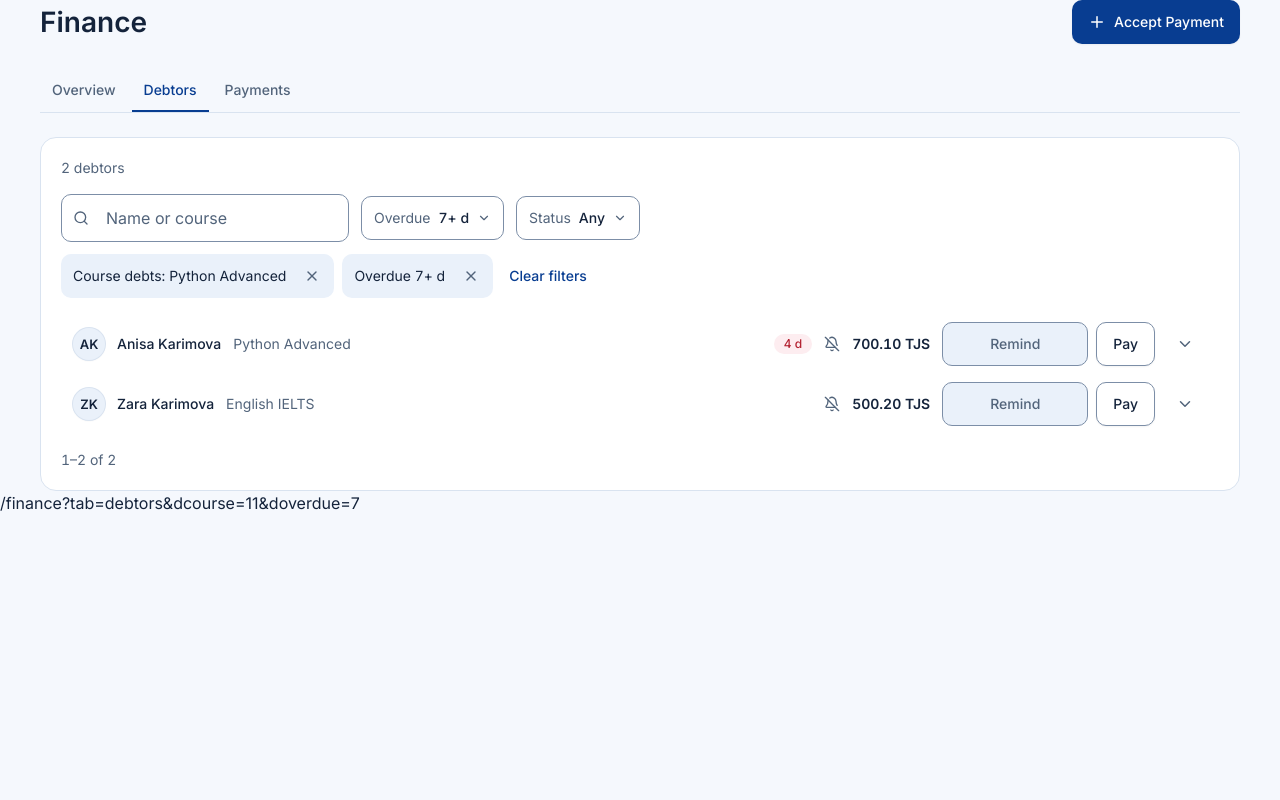
Test case: Debtors filters › applies the status filter, removes chips and clears everything
The width and height of the screenshot is (1280, 800).
Check: the text "Course debts: Python Advanced" is shown, box [73, 266, 286, 286]
Click the button "Status Any" at (578, 218), box [516, 196, 640, 240]
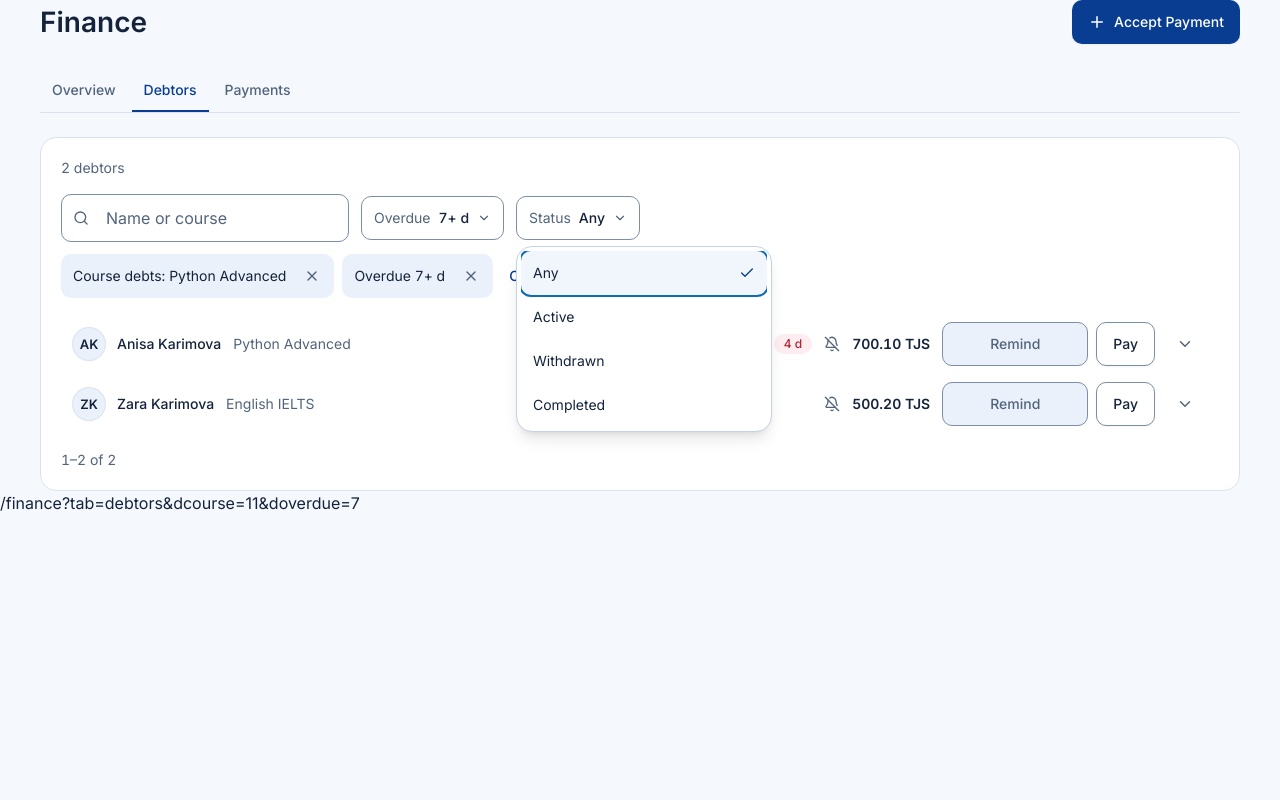
Click the option "Active" at (644, 317), box [521, 295, 767, 339]
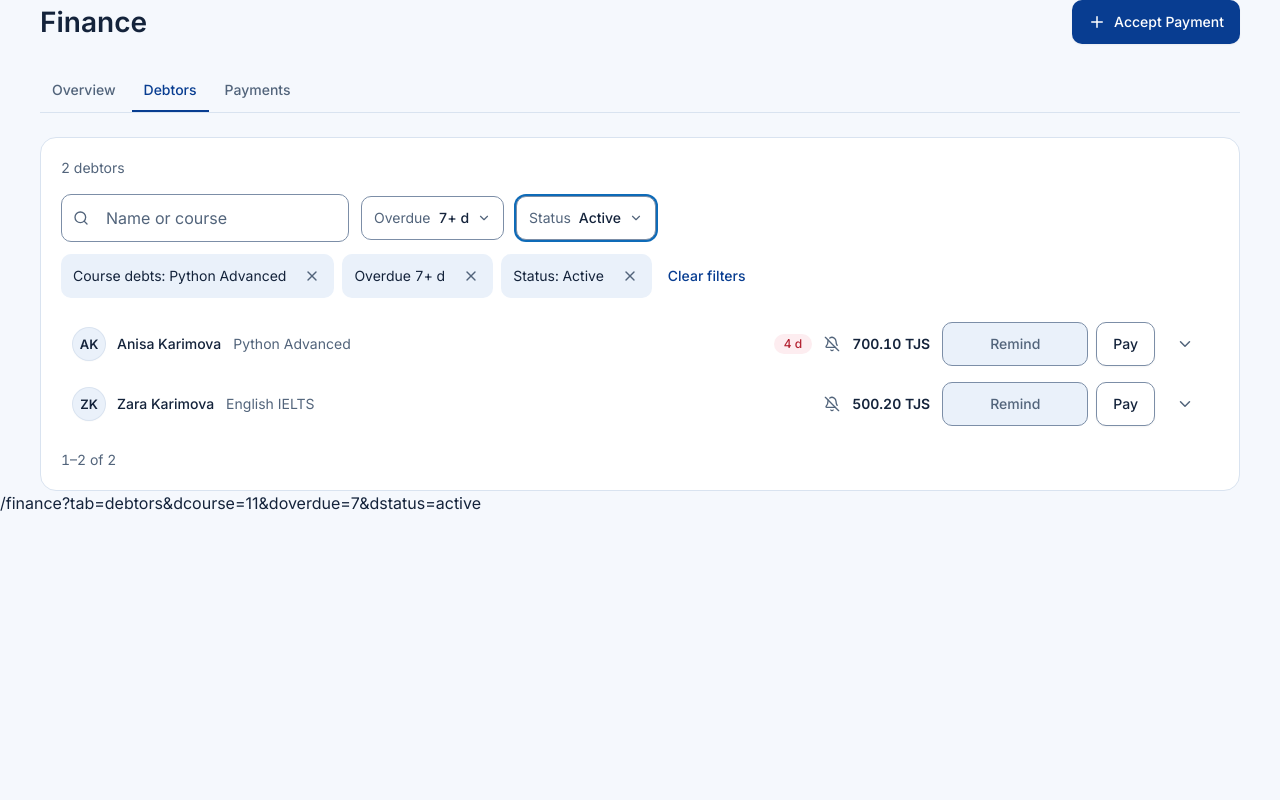
Check: the text "Status: Active" is shown, box [513, 266, 604, 286]
Click the button named "Remove filter: Overdue 7+ d" at (471, 276), box [449, 254, 493, 298]
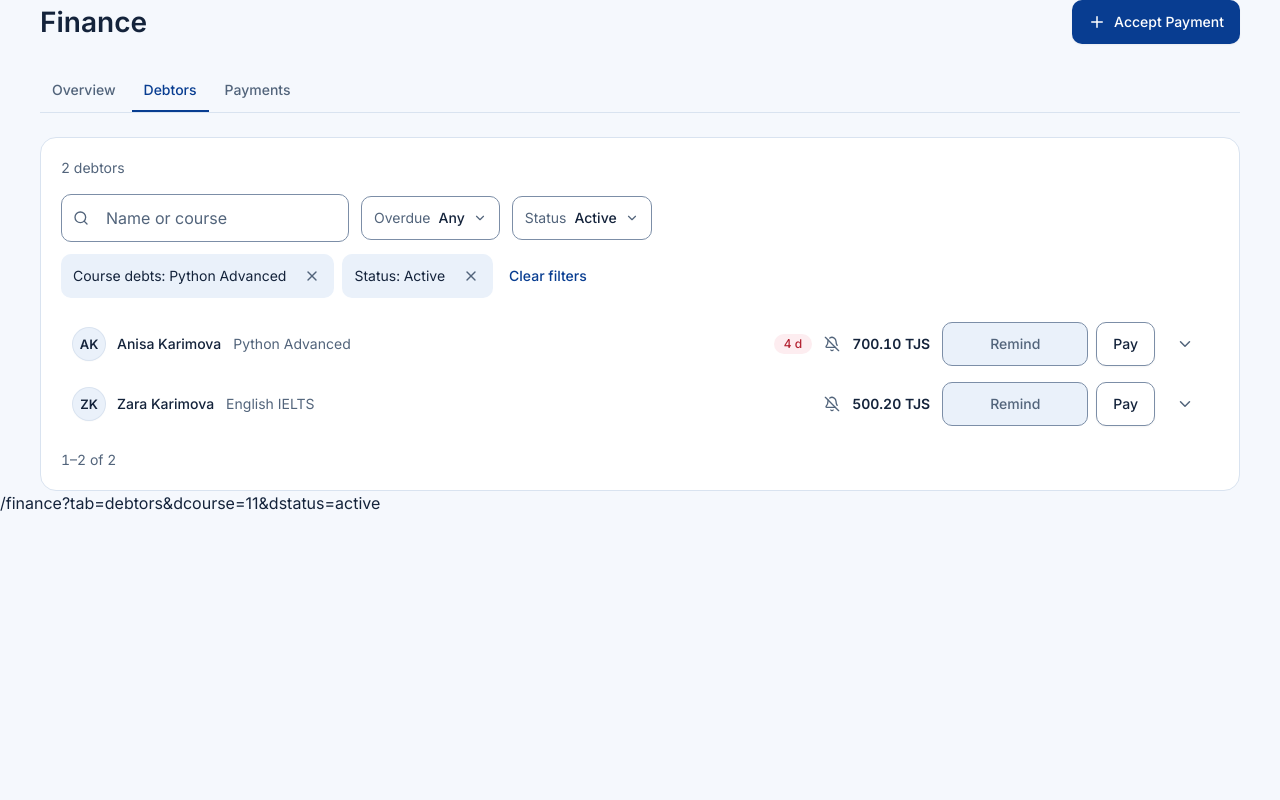
Check: the text with test id "location" reads "/finance?tab=debtors&dcourse=11&dstatus=active", box [0, 493, 380, 513]
Click the button "Clear filters" at (548, 276), box [501, 254, 595, 298]
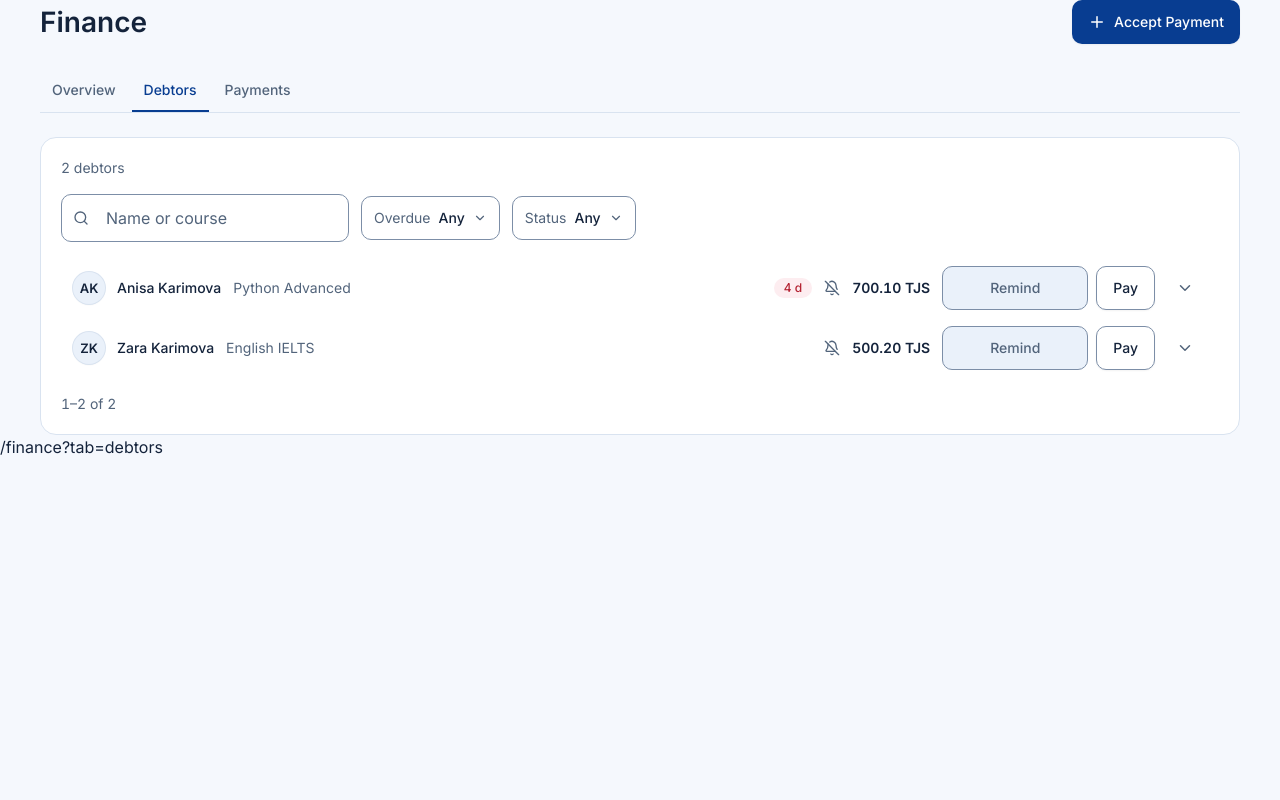
Check: the text with test id "location" reads "/finance?tab=debtors", box [0, 437, 163, 457]
